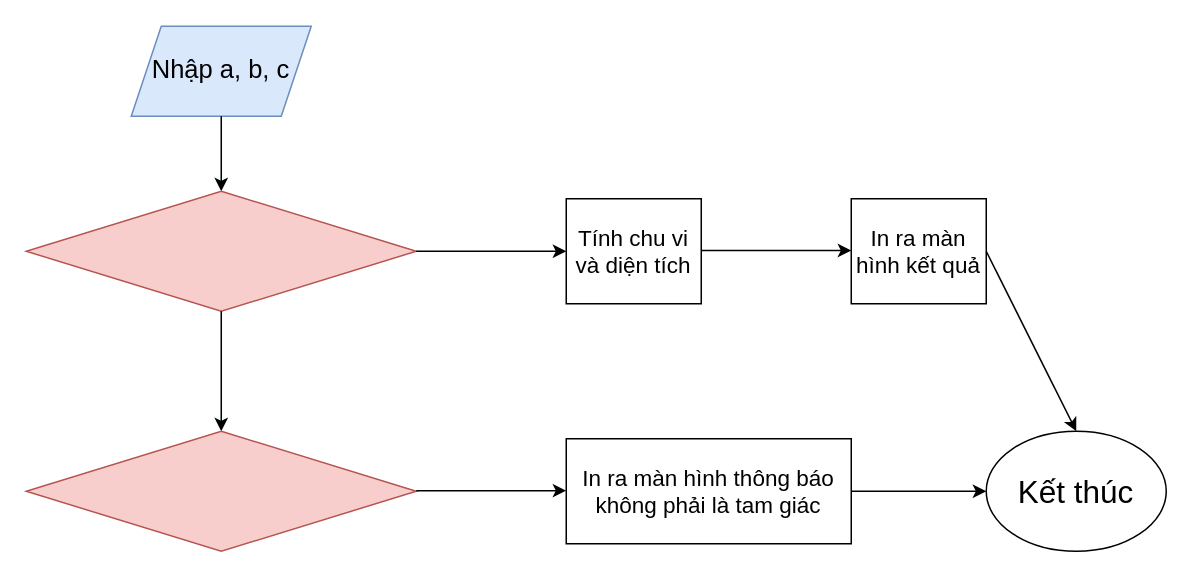
The diagram is 1193 pixels wide and 578 high, and some of its shapes have lost their labels. Each missing label, with the centre of its shape:
"Nếu không phải là tam giác (không thỏa bất đẳng thức)" belongs at pixel 220 490.
"Nếu là tam giác (thỏa bất đẳng thức tam giác)" belongs at pixel 220 250.
